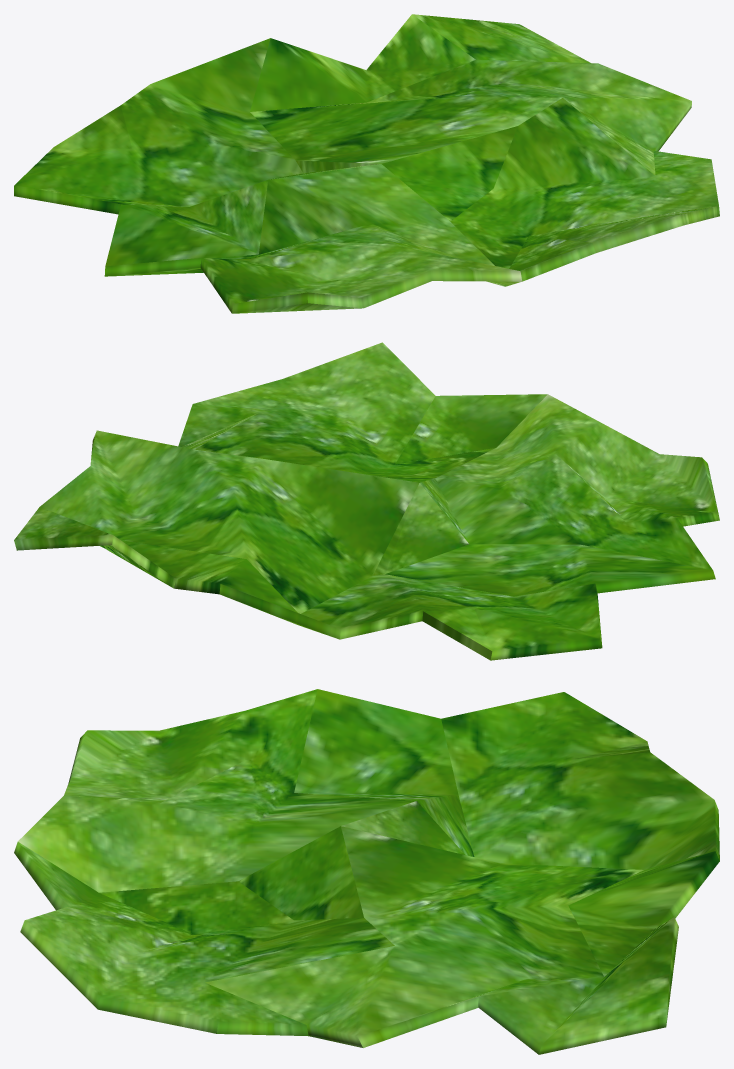
File: lettuce.obj
The picture shows the model from 3 angles, top to bottom: view 1: azimuth 30°, elevation 25°; view 2: azimuth 150°, elevation 25°; view 3: azimuth 270°, elevation 25°; orthographic projection. The views are drawn at different scales.
Parts seen in each view (by area): view 1: hamburger:mesh0032; view 2: hamburger:mesh0032; view 3: hamburger:mesh0032.
Part boxes in pixels (box(x1,y1,x2,y2)): hamburger:mesh0032: box(14, 14, 719, 313); hamburger:mesh0032: box(14, 342, 719, 660); hamburger:mesh0032: box(14, 689, 719, 1054).
Size of the model in its own units: 6.65 by 0.6796 by 5.56.
Materials: 1 (1 with a texture image).
